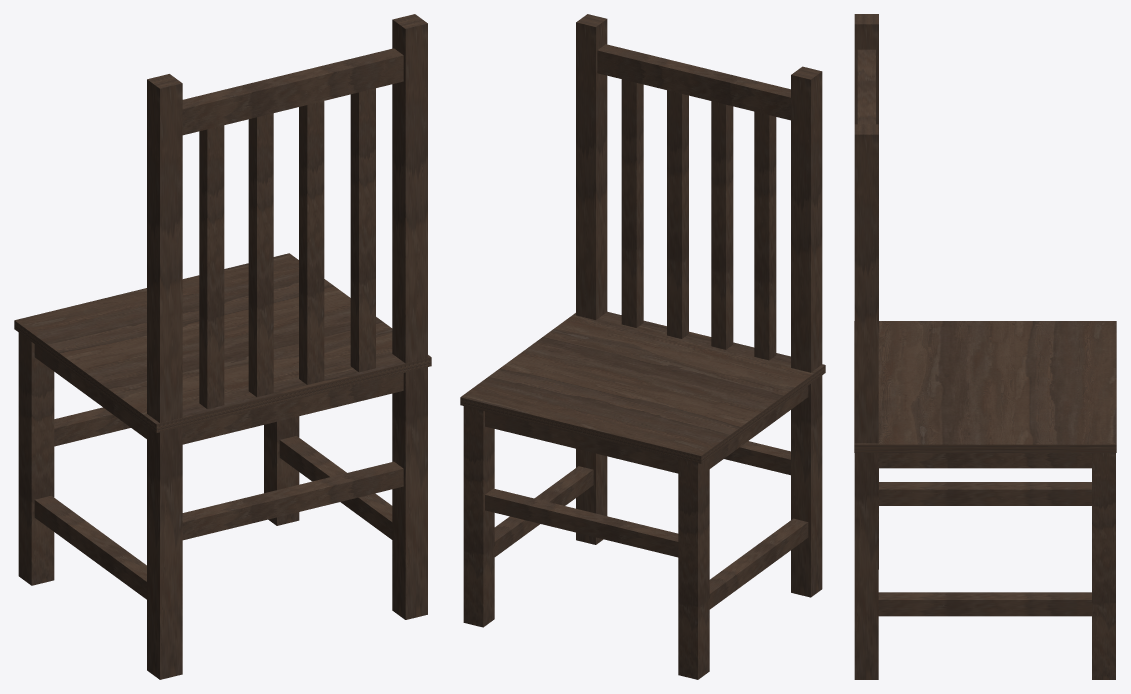
The model's file is chairprot.fbx.
3 views of the same model, side by side, from view 1: azimuth 30°, elevation 25°; view 2: azimuth 150°, elevation 25°; view 3: azimuth 270°, elevation 25° (orthographic). The views are drawn at different scales.
Parts seen in each view (by area): view 1: Box010, Box001, Box002, Box012, Box004, Box019, Box011, Box018, Box020, Box008, Box014, Box007 (+4 smaller); view 2: Box010, Box001, Box002, Box004, Box005, Box012, Box020, Box011, Box018, Box019, Box009, Box015 (+4 smaller); view 3: Box010, Box002, Box005, Box006, Box007, Box016, Box001, Box012.
Part boxes in pixels (left/top/right/bottom): Box010: left=14, top=253, right=431, bottom=433; Box001: left=147, top=74, right=182, bottom=679; Box002: left=392, top=14, right=427, bottom=619; Box012: left=182, top=48, right=403, bottom=135; Box004: left=18, top=332, right=54, bottom=585; Box019: left=299, top=101, right=324, bottom=384; Box011: left=199, top=125, right=224, bottom=409; Box018: left=248, top=113, right=273, bottom=396; Box020: left=350, top=88, right=375, bottom=372; Box008: left=182, top=461, right=403, bottom=540; Box014: left=182, top=373, right=403, bottom=444; Box007: left=34, top=495, right=146, bottom=599; Box010: left=460, top=311, right=825, bottom=463; Box001: left=791, top=66, right=822, bottom=597; Box002: left=576, top=14, right=607, bottom=544; Box004: left=678, top=458, right=709, bottom=679; Box005: left=463, top=406, right=494, bottom=627; Box012: left=597, top=44, right=790, bottom=120; Box020: left=621, top=79, right=643, bottom=327; Box011: left=754, top=111, right=776, bottom=360; Box018: left=711, top=101, right=733, bottom=349; Box019: left=667, top=90, right=688, bottom=338; Box009: left=485, top=488, right=678, bottom=557; Box015: left=485, top=411, right=678, bottom=473; Box010: left=854, top=321, right=1116, bottom=452; Box002: left=854, top=124, right=878, bottom=679; Box005: left=1092, top=453, right=1115, bottom=679; Box006: left=878, top=592, right=1091, bottom=616; Box007: left=879, top=482, right=1091, bottom=505; Box016: left=878, top=453, right=1091, bottom=468; Box001: left=854, top=14, right=878, bottom=569; Box012: left=857, top=49, right=875, bottom=124.
Size of the model in its own units: 0.487 by 1 by 0.436.
1 material, 1 textured.
